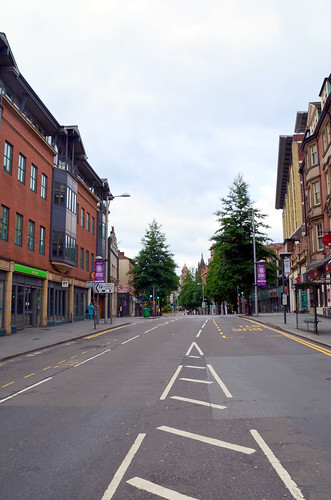building: (1, 78, 101, 324), (273, 71, 331, 309)
sky: (80, 1, 269, 194)
street: (7, 321, 331, 500)
tree: (204, 180, 272, 320), (136, 219, 180, 315)
